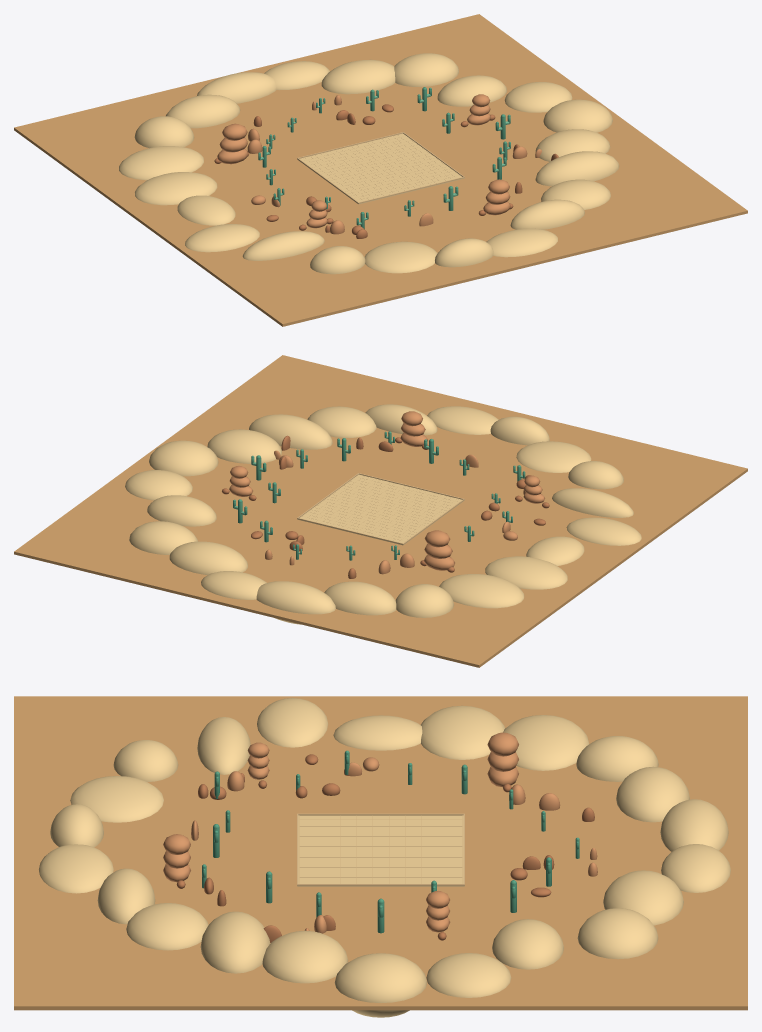
File: toon-landscape-desert.glb
3 views of the same model, one above another, from view 1: azimuth 30°, elevation 25°; view 2: azimuth 150°, elevation 25°; view 3: azimuth 270°, elevation 25° (orthographic). The views are drawn at different scales.
Parts seen in each view (by area): view 1: Surrounding terrain.001, Playing clearing.001, Dune.010, Dune.021, Dune.005, Dune.011, Dune.016, Dune.001, Dune.004, Dune.008, Dune.007, Dune.014 (+12 smaller); view 2: Surrounding terrain.001, Playing clearing.001, Dune.010, Dune.007, Dune.011, Dune.005, Dune.021, Dune, Dune.001, Dune.008, Dune.016, Dune.003 (+12 smaller); view 3: Surrounding terrain.001, Playing clearing.001, Dune.001, Dune, Dune.011, Dune.010, Dune.021, Dune.004, Dune.016, Dune.020, Dune.005, Dune.002 (+13 smaller).
Boxes of the visible parts, <box> form: Surrounding terrain.001: <box>14,14,747,326</box>; Playing clearing.001: <box>297,133,464,204</box>; Dune.010: <box>119,146,203,180</box>; Dune.021: <box>535,151,619,186</box>; Dune.005: <box>321,59,395,94</box>; Dune.011: <box>135,172,217,205</box>; Dune.016: <box>365,241,437,273</box>; Dune.001: <box>543,99,612,132</box>; Dune.004: <box>394,53,458,86</box>; Dune.008: <box>166,94,240,128</box>; Dune.007: <box>197,72,276,103</box>; Dune.014: <box>242,231,324,260</box>; Surrounding terrain.001: <box>14,355,747,667</box>; Playing clearing.001: <box>297,474,464,545</box>; Dune.010: <box>439,574,524,608</box>; Dune.007: <box>256,581,335,624</box>; Dune.011: <box>485,556,567,589</box>; Dune.005: <box>169,541,247,574</box>; Dune.021: <box>249,414,332,449</box>; Dune: <box>207,429,281,463</box>; Dune.001: <box>149,440,218,476</box>; Dune.008: <box>324,581,396,615</box>; Dune.016: <box>516,441,591,472</box>; Dune.003: <box>147,495,216,526</box>; Surrounding terrain.001: <box>14,696,747,1010</box>; Playing clearing.001: <box>297,815,464,886</box>; Dune.001: <box>334,953,427,1017</box>; Dune: <box>262,930,348,983</box>; Dune.011: <box>421,705,505,759</box>; Dune.010: <box>503,715,589,770</box>; Dune.021: <box>200,911,270,973</box>; Dune.004: <box>577,908,658,959</box>; Dune.016: <box>70,776,163,822</box>; Dune.020: <box>126,903,208,950</box>; Dune.005: <box>603,870,683,925</box>; Dune.002: <box>426,953,511,997</box>.
Size of the model in its own units: 90 by 10.57 by 90.
